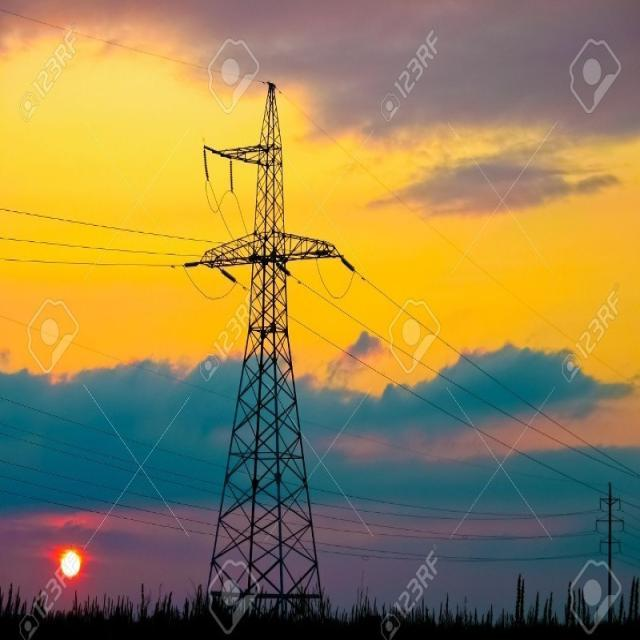non-critical vegetation: (201, 97, 344, 594)
